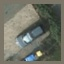car: (14, 24, 44, 49)
